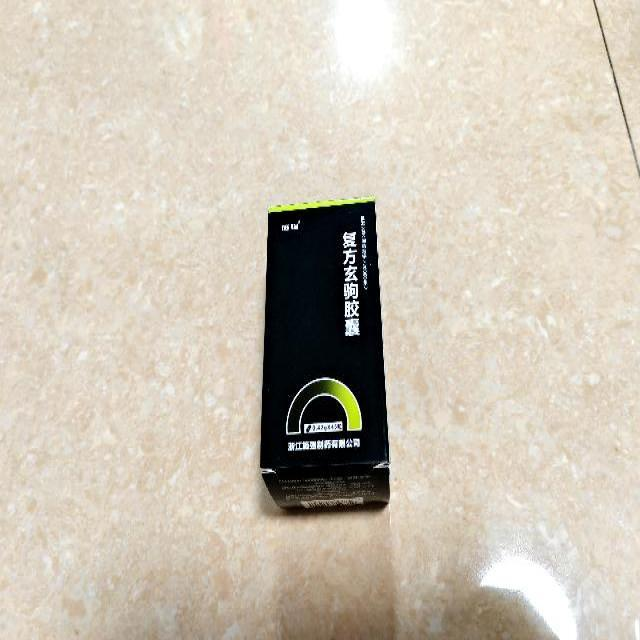box: (258, 195, 390, 514)
